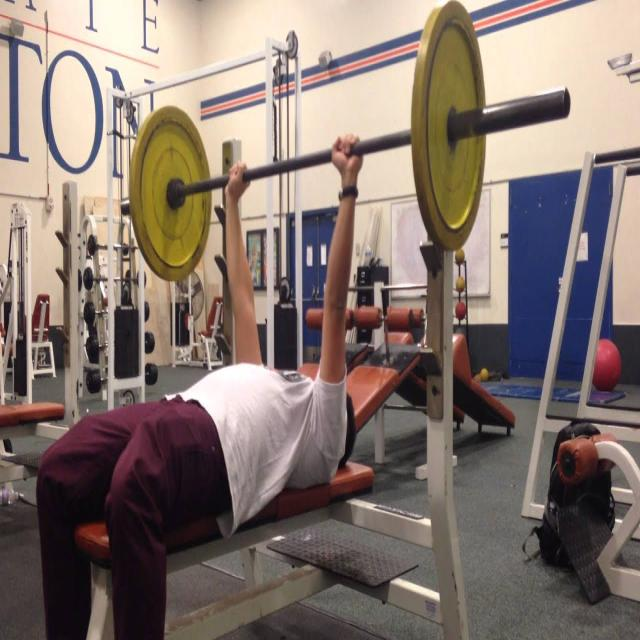bench: (30, 0, 548, 640)
